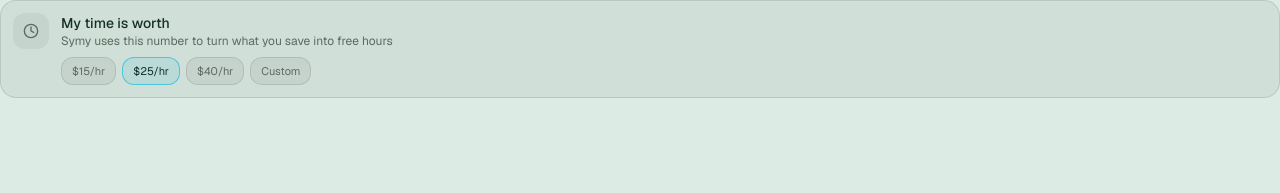
Test: TimeValueSetting › 非数字输入显示提示且不保存
The width and height of the screenshot is (1280, 193).
Click the button with test id "time-value-custom" at point(281, 71), box [250,57,312,85]
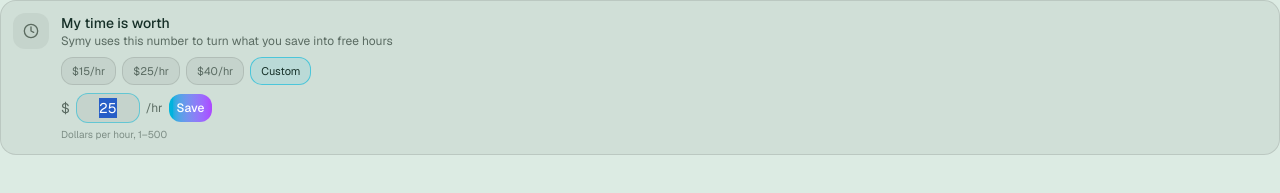
Type "abc" into the field with test id "time-value-input" at point(108, 108), box [76,93,140,123]
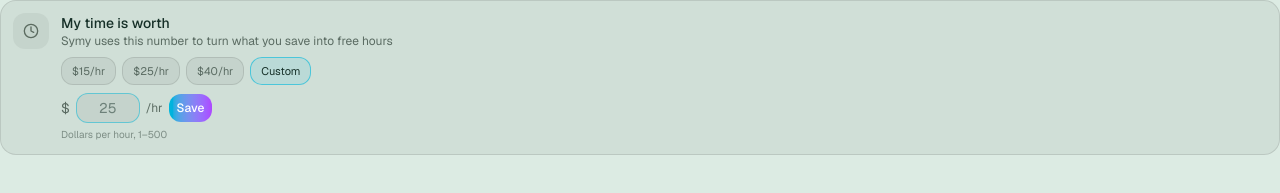
Press Enter in the field with test id "time-value-input", box [76,93,140,123]
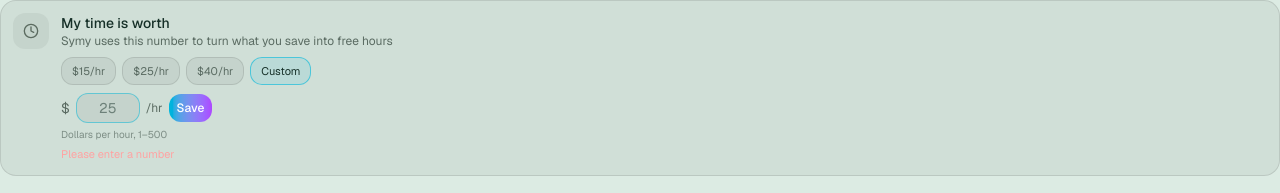
Check: the text "Please enter a number" is shown, box [61,147,174,161]
